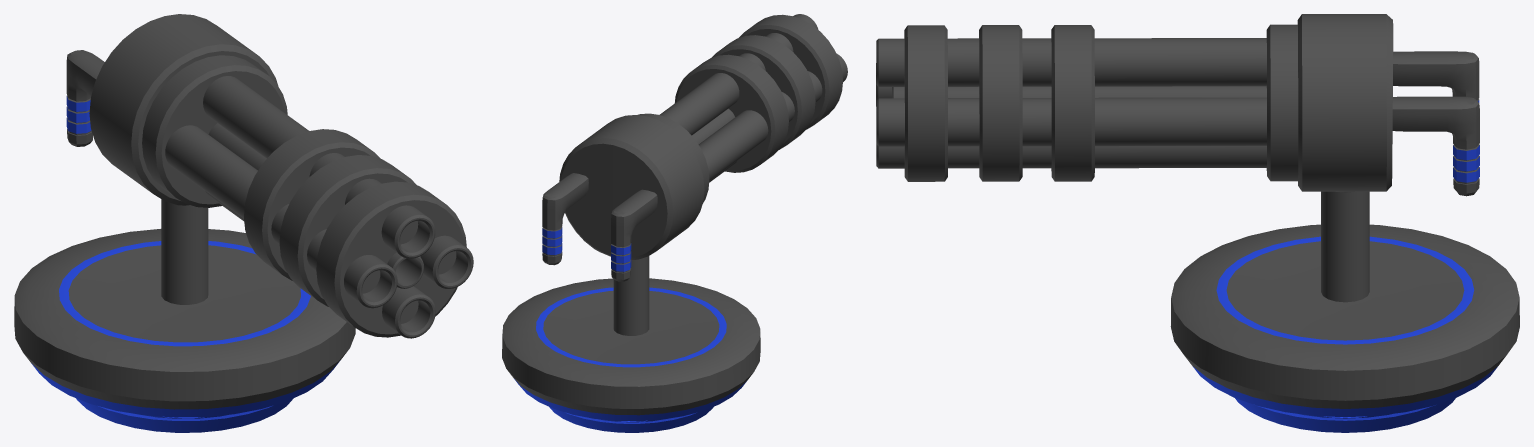
The model's file is Turret.fbx.
3 views of the same model, side by side, from view 1: azimuth 30°, elevation 25°; view 2: azimuth 150°, elevation 25°; view 3: azimuth 270°, elevation 25° (orthographic). The views are drawn at different scales.
Parts seen in each view (by area): view 1: Cylinder.004; view 2: Cylinder.004; view 3: Cylinder.004.
Boxes of the visible parts, left/top/right/bottom form: Cylinder.004: left=14, top=14, right=473, bottom=432; Cylinder.004: left=502, top=14, right=847, bottom=432; Cylinder.004: left=876, top=14, right=1519, bottom=432.
Bounding box in the file's own units: 200 × 237 × 370.
